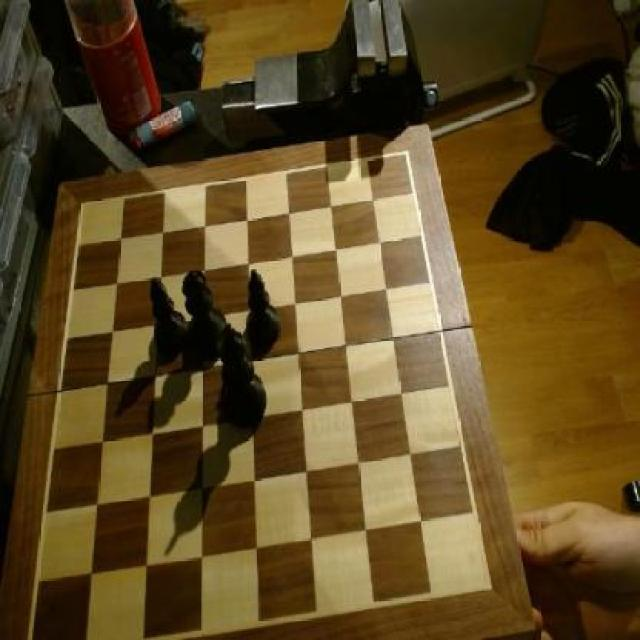bishop: (144, 276, 188, 360), (242, 263, 282, 355)
black-bishop: (215, 325, 272, 430)
black-pawn: (178, 265, 228, 359)
